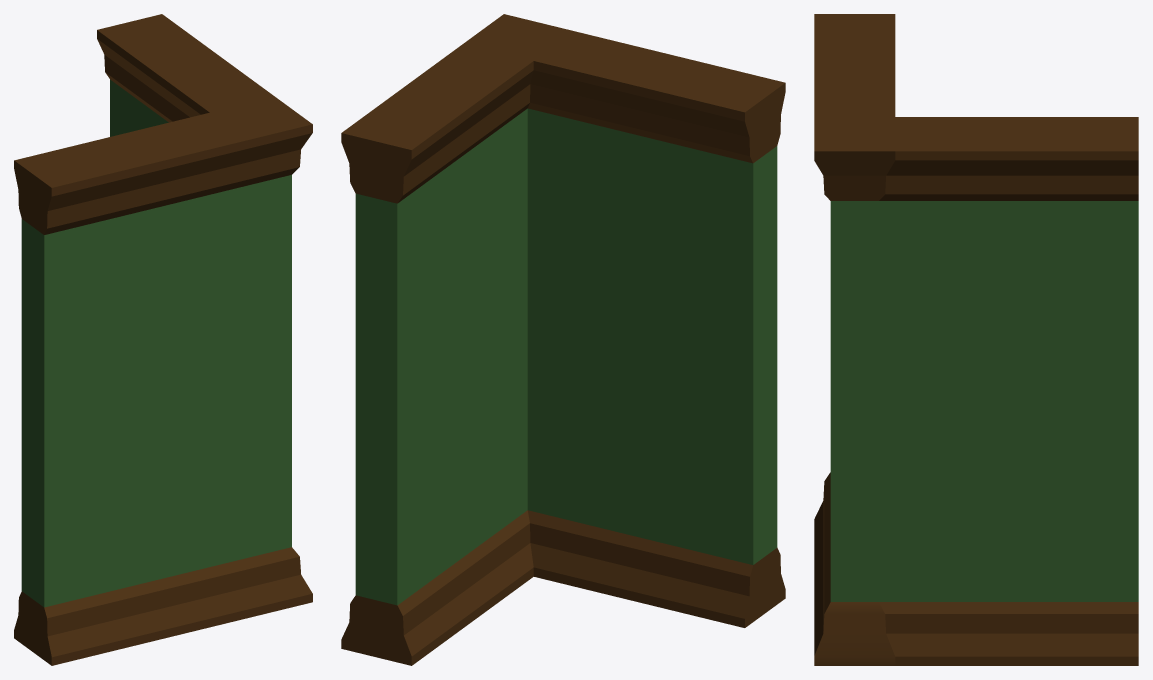
File: cornerWall_GEO.fbx
3 renders of one model, left to right at view 1: azimuth 30°, elevation 25°; view 2: azimuth 150°, elevation 25°; view 3: azimuth 270°, elevation 25°, orthographic. The views are drawn at different scales.
Visible parts, largest first — view 1: wallCorner; view 2: wallCorner; view 3: wallCorner.
Boxes of the visible parts, left/top/right/bottom form: wallCorner: left=14, top=14, right=312, bottom=665; wallCorner: left=341, top=14, right=785, bottom=665; wallCorner: left=814, top=14, right=1138, bottom=665.
Bounding box in the file's own units: 200 × 350 × 200.
